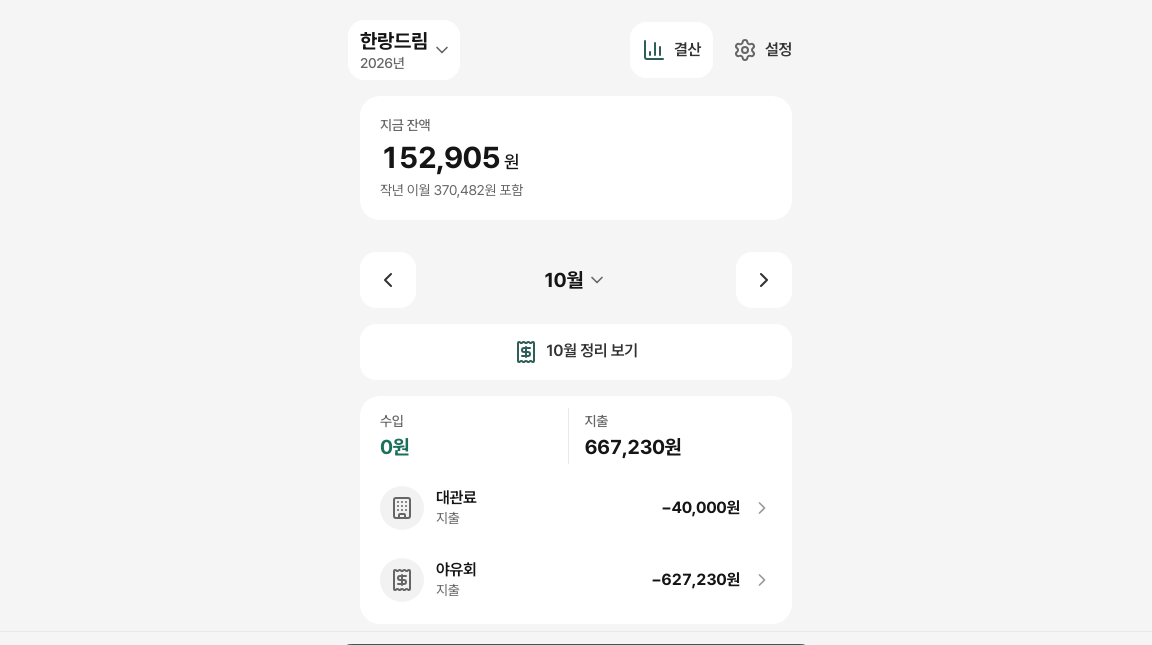
Test: SPEC-005 여러 장부 저장 형식 (화면) › AC-6 장부 화면·설정은 지금 장부의 기록·이월금·연도만 보여 준다
This screenshot has width=1152, height=645.
Expected: the heading shows "한랑드림", x1=348 y1=20 x2=460 y2=80
Expected: the element with test id "balance-card-amount" reads "152,905원", x1=380 y1=139 x2=519 y2=175
Click the button "설정": (762, 50) x1=721 y1=22 x2=804 y2=78
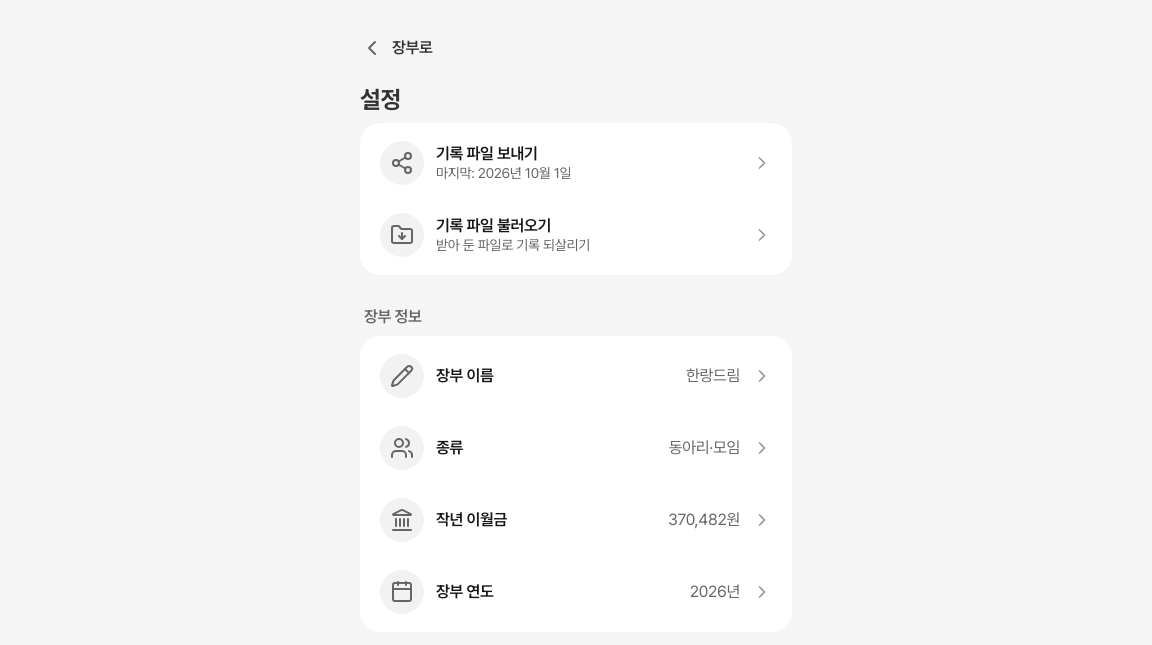
Expected: the button "작년 이월금 370,482원" is shown, x1=360 y1=484 x2=792 y2=556
